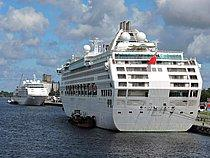Ship: (52, 19, 204, 136), (11, 72, 52, 108)
